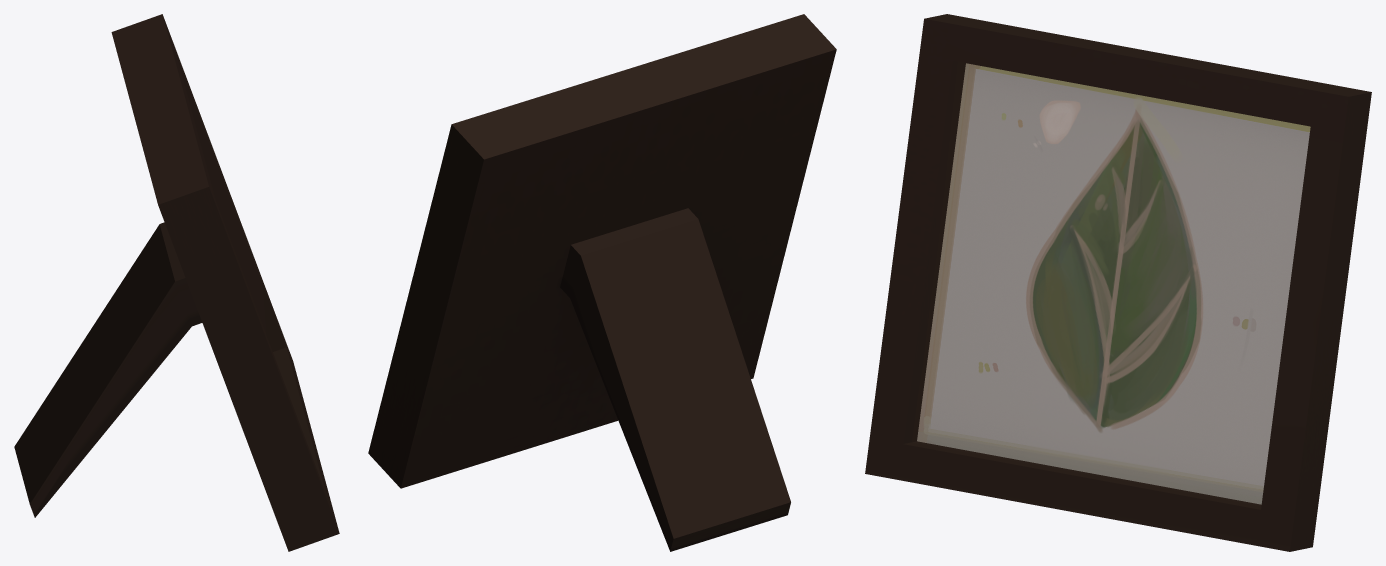
Rendered from Frame.fbx.
3 views of the same model, side by side, from view 1: azimuth 30°, elevation 25°; view 2: azimuth 150°, elevation 25°; view 3: azimuth 270°, elevation 25° (orthographic). The views are drawn at different scales.
Visible parts, largest first — view 1: Cube.020; view 2: Cube.020; view 3: Cube.020.
Boxes of the visible parts, x1=… form: Cube.020: x1=14, y1=14, x2=339, y2=551; Cube.020: x1=368, y1=14, x2=836, y2=551; Cube.020: x1=865, y1=14, x2=1371, y2=551.
Size of the model in its own units: 51.27 by 56.61 by 60.56.
